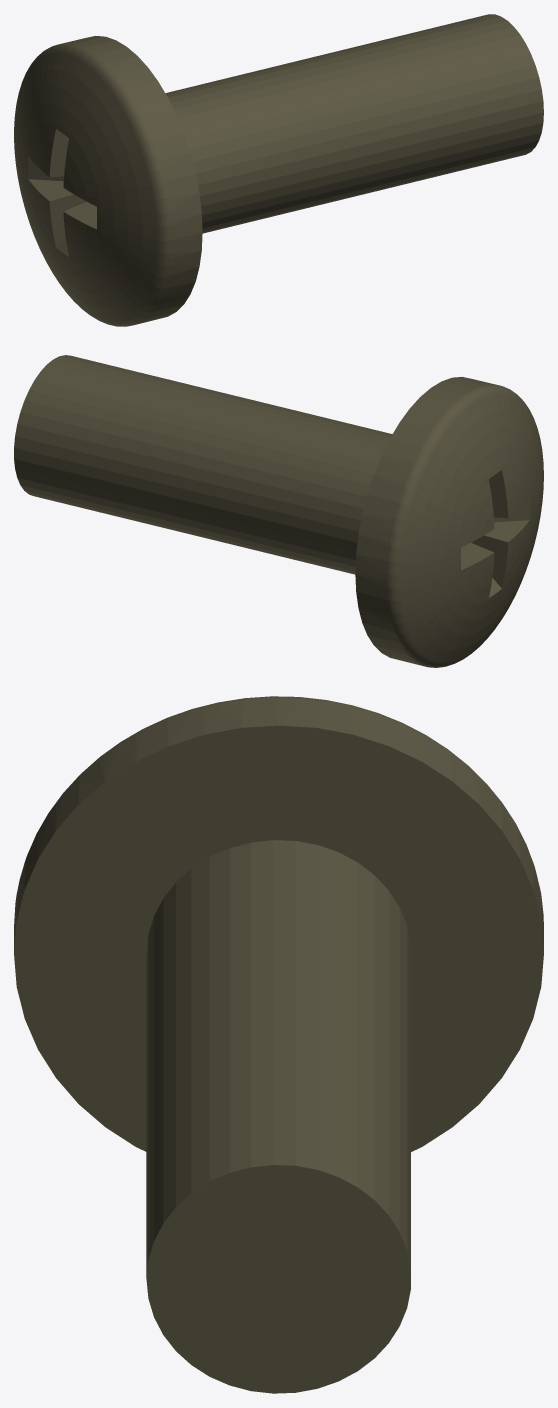
Rendered from Dinh_Vua.glb.
The picture shows the model from 3 angles, top to bottom: view 1: azimuth 30°, elevation 25°; view 2: azimuth 150°, elevation 25°; view 3: azimuth 270°, elevation 25°; orthographic projection. The views are drawn at different scales.
Parts seen in each view (by area): view 1: defaultobject; view 2: defaultobject; view 3: defaultobject.
Part boxes in pixels (x1=…): defaultobject: x1=14, y1=14, x2=543, y2=326; defaultobject: x1=14, y1=355, x2=543, y2=667; defaultobject: x1=14, y1=696, x2=543, y2=1393.
Bounding box in the file's own units: 36.11 × 20 × 20.99.
